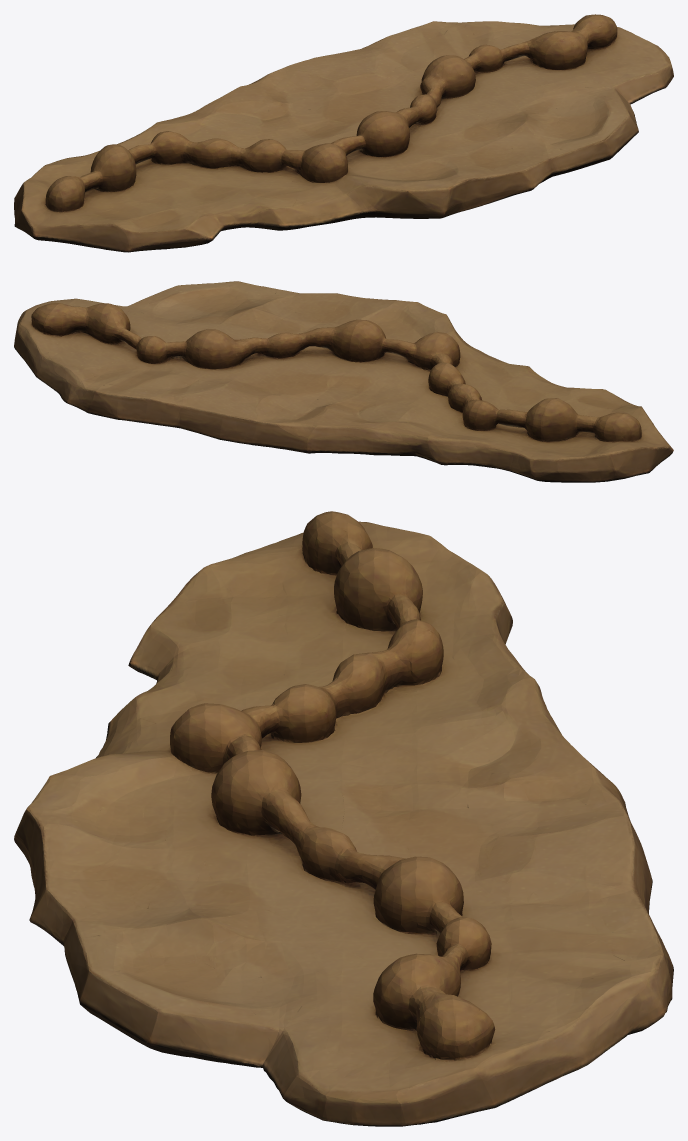
3 renders of one model, top to bottom at view 1: azimuth 30°, elevation 25°; view 2: azimuth 150°, elevation 25°; view 3: azimuth 270°, elevation 25°, orthographic. The views are drawn at different scales.
Visible parts, largest first — view 1: world; view 2: world; view 3: world.
Boxes of the visible parts, x1,y1,x2,y2 form: world: (14, 14, 673, 252); world: (14, 281, 673, 482); world: (14, 511, 673, 1126).
Bounding box in the file's own units: 1 × 0.0836 × 0.4877.
Materials: 1 (1 with a texture image).
